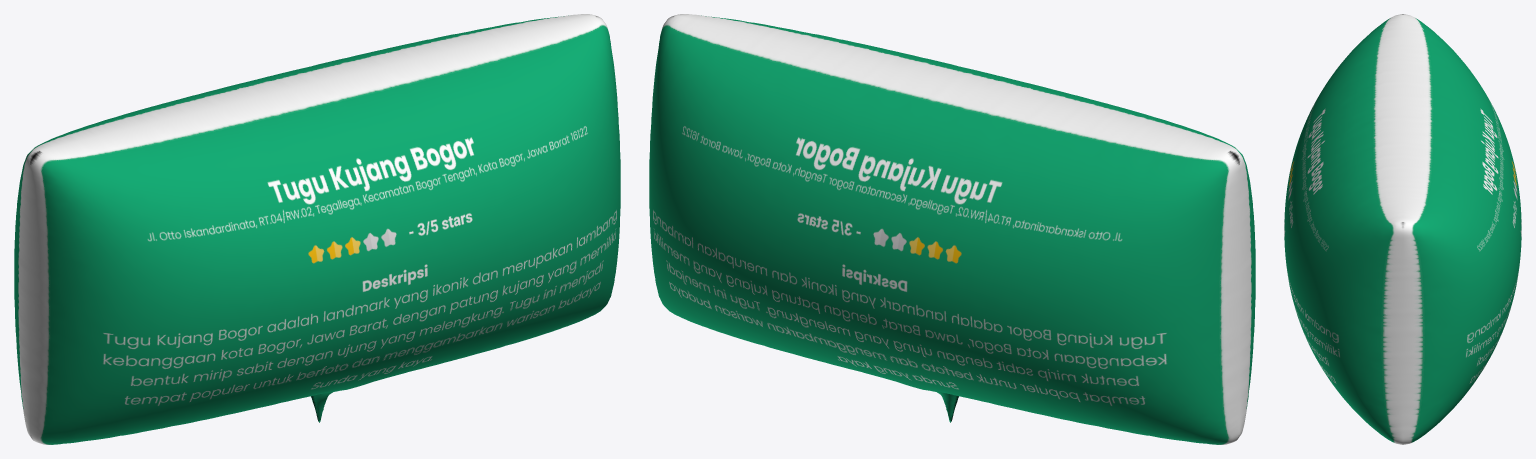
File: tugu-kujang-2.glb
3 views of the same model, side by side, from view 1: azimuth 30°, elevation 25°; view 2: azimuth 150°, elevation 25°; view 3: azimuth 270°, elevation 25° (orthographic). The views are drawn at different scales.
Bounding box in the file's own units: 9.98 × 5.64 × 4.66.
Materials: 1 (1 with a texture image).
